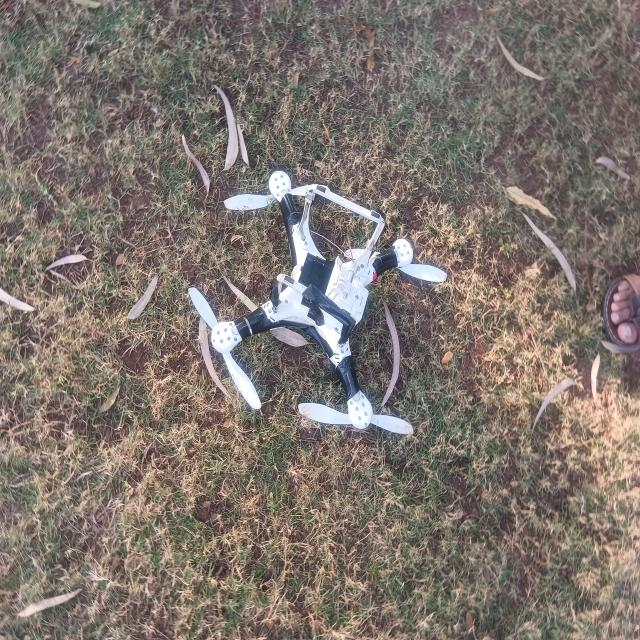drone: (160, 147, 460, 460)
